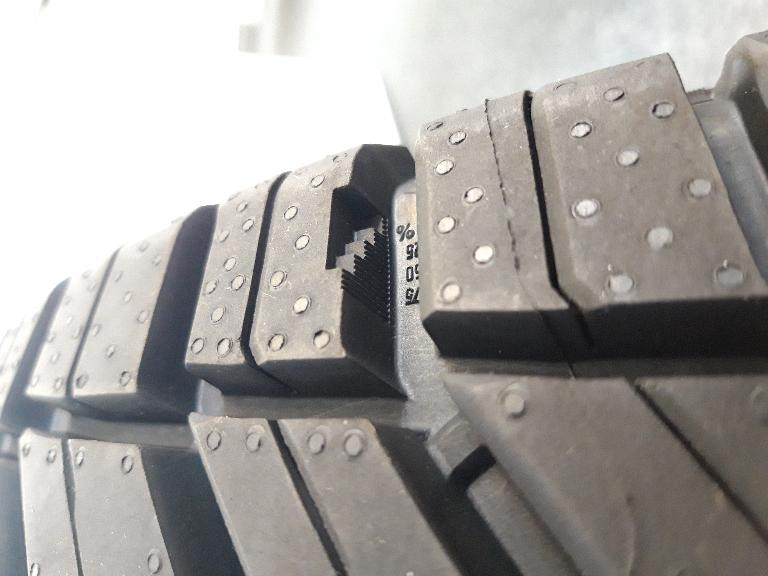temoin:100: (323, 182, 395, 306)
